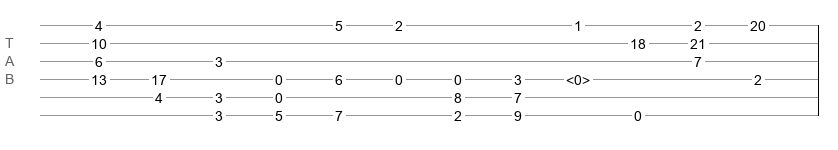0: (275, 72, 283, 82), (275, 90, 283, 100), (395, 72, 403, 82), (454, 72, 462, 82), (634, 108, 642, 118)
1: (574, 18, 582, 28)
10: (91, 36, 107, 46)
13: (91, 72, 107, 82)
17: (151, 72, 167, 82)
18: (630, 36, 646, 46)
2: (395, 18, 403, 28), (454, 108, 462, 118), (694, 18, 702, 28), (754, 72, 762, 82)
20: (750, 18, 766, 28)
21: (690, 36, 706, 46)
3: (215, 54, 223, 64), (215, 108, 223, 118), (215, 90, 223, 100), (514, 72, 522, 82)
4: (95, 18, 103, 28), (155, 90, 163, 100)
5: (275, 108, 283, 118), (335, 18, 343, 28)
6: (95, 54, 103, 64), (335, 72, 343, 82)
7: (335, 108, 343, 118), (514, 90, 522, 100), (694, 54, 702, 64)
8: (454, 90, 462, 100)
9: (514, 108, 522, 118)
harmonic: (566, 72, 590, 82)
